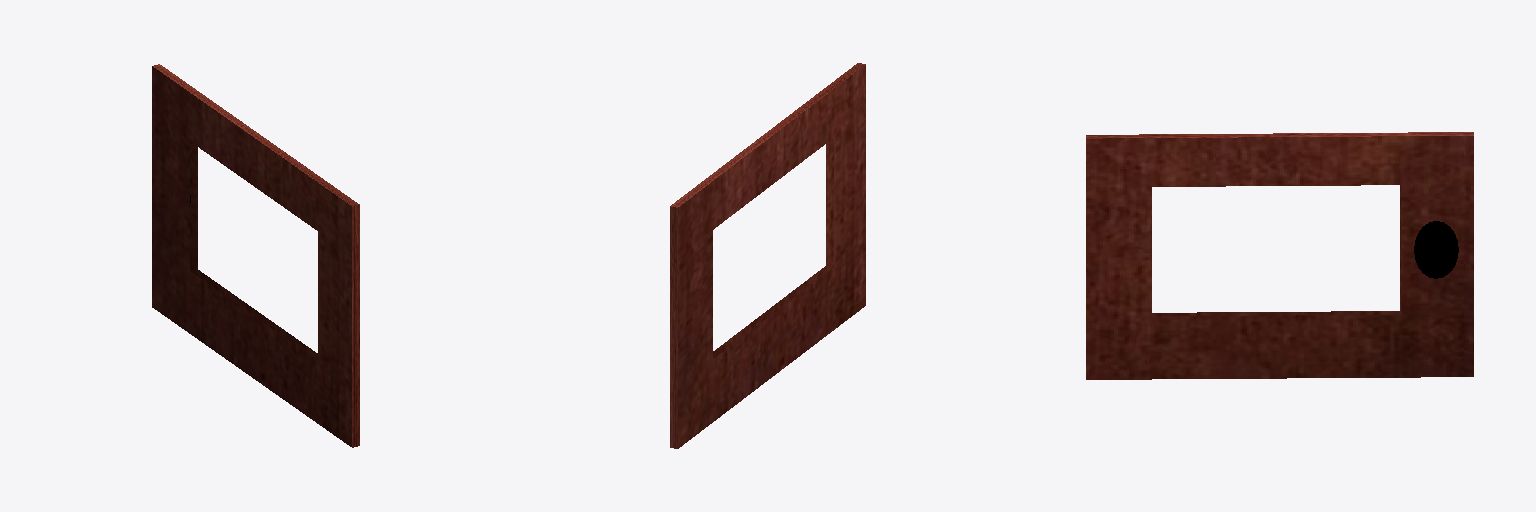
3 views of the same model, side by side, from view 1: azimuth 30°, elevation 25°; view 2: azimuth 150°, elevation 25°; view 3: azimuth 270°, elevation 25° (orthographic).
Visible parts, largest first — view 1: pCylinder2; view 2: pCylinder2; view 3: pCylinder2.
Part boxes in pixels (x1,y1,x2,y2): pCylinder2: (152, 64, 359, 447); pCylinder2: (670, 63, 865, 448); pCylinder2: (1086, 132, 1473, 379).
Size of the model in its own units: 0.0844 by 1.43 by 2.09.
Materials: 2 (1 with a texture image).